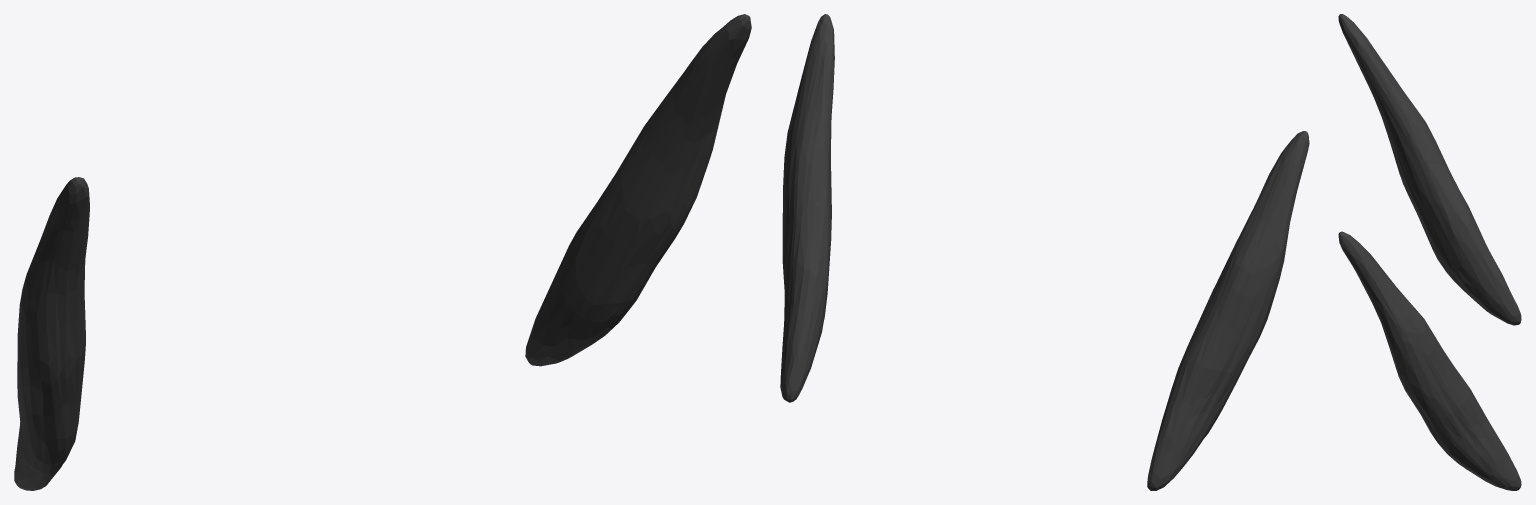
The model's file is m_lateral_digital_flexor.glb.
3 views of the same model, side by side, from view 1: azimuth 30°, elevation 25°; view 2: azimuth 150°, elevation 25°; view 3: azimuth 270°, elevation 25° (orthographic). The views are drawn at different scales.
Parts seen in each view (by area): view 1: m_lateral_digital_flexor; view 2: m_lateral_digital_flexor; view 3: m_lateral_digital_flexor.
Boxes of the visible parts, left/top/right/bottom form: m_lateral_digital_flexor: left=14, top=14, right=751, bottom=490; m_lateral_digital_flexor: left=780, top=14, right=1309, bottom=490; m_lateral_digital_flexor: left=1338, top=14, right=1521, bottom=490.
Bounding box in the file's own units: 0.00628 × 0.0037 × 0.00216.
Materials: 1 (1 with a texture image).
